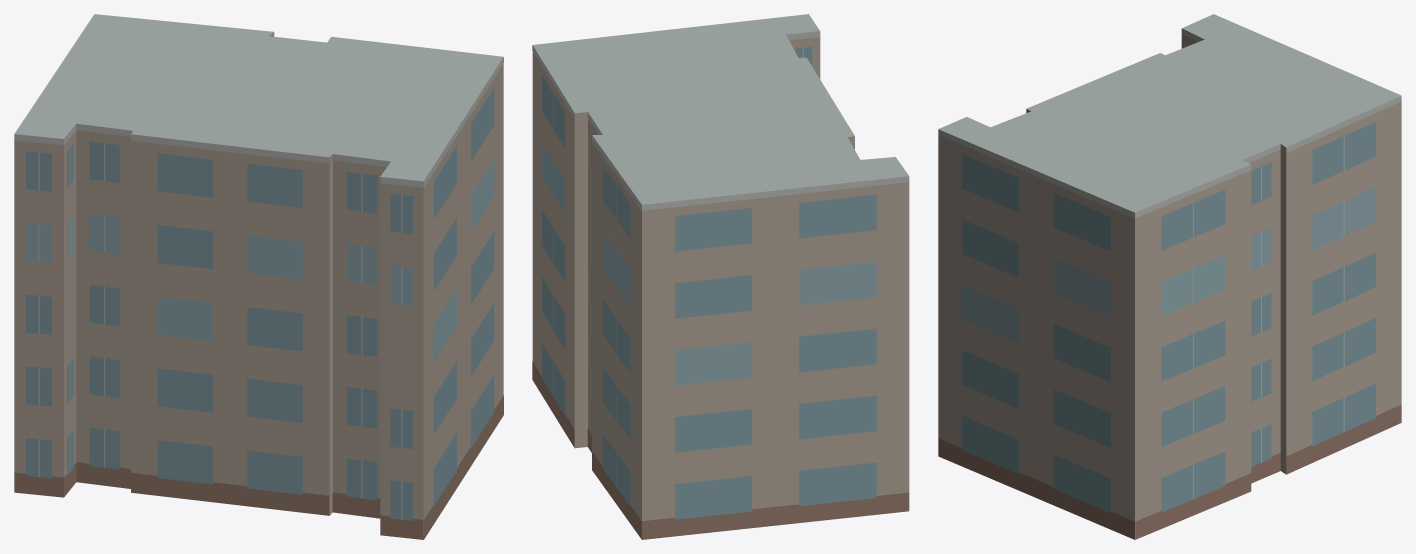
File: survey-upis-32597804.glb
3 views of the same model, side by side, from view 1: azimuth 30°, elevation 25°; view 2: azimuth 150°, elevation 25°; view 3: azimuth 270°, elevation 25° (orthographic). The views are drawn at different scales.
Parts seen in each view (by area): view 1: survey-upis-32597804.tmp; view 2: survey-upis-32597804.tmp; view 3: survey-upis-32597804.tmp.
Part boxes in pixels (x1,y1,x2,y2): survey-upis-32597804.tmp: (14, 14, 503, 539); survey-upis-32597804.tmp: (532, 14, 909, 539); survey-upis-32597804.tmp: (938, 14, 1401, 539).
Size of the model in its own units: 17.99 by 13.8 by 17.72.
